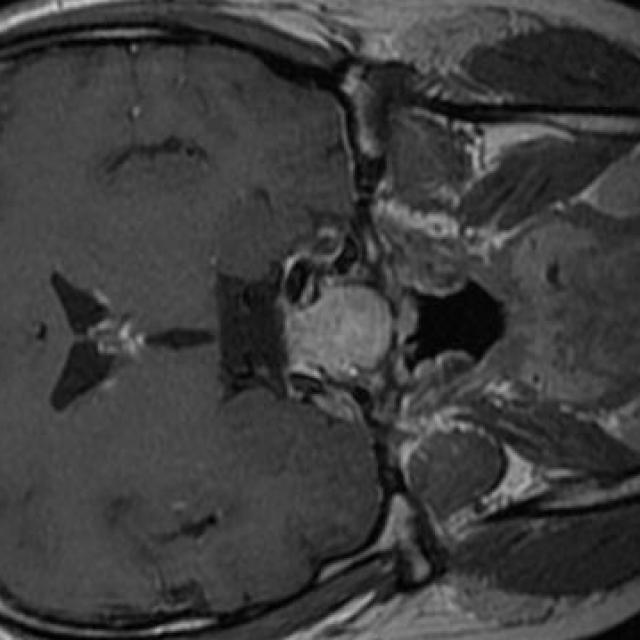pituitary: (289, 285, 390, 380)
